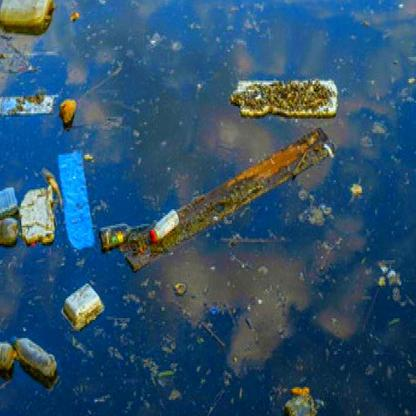foam: (62, 282, 105, 328)
plastic bottle: (8, 335, 56, 378), (150, 210, 178, 241)
